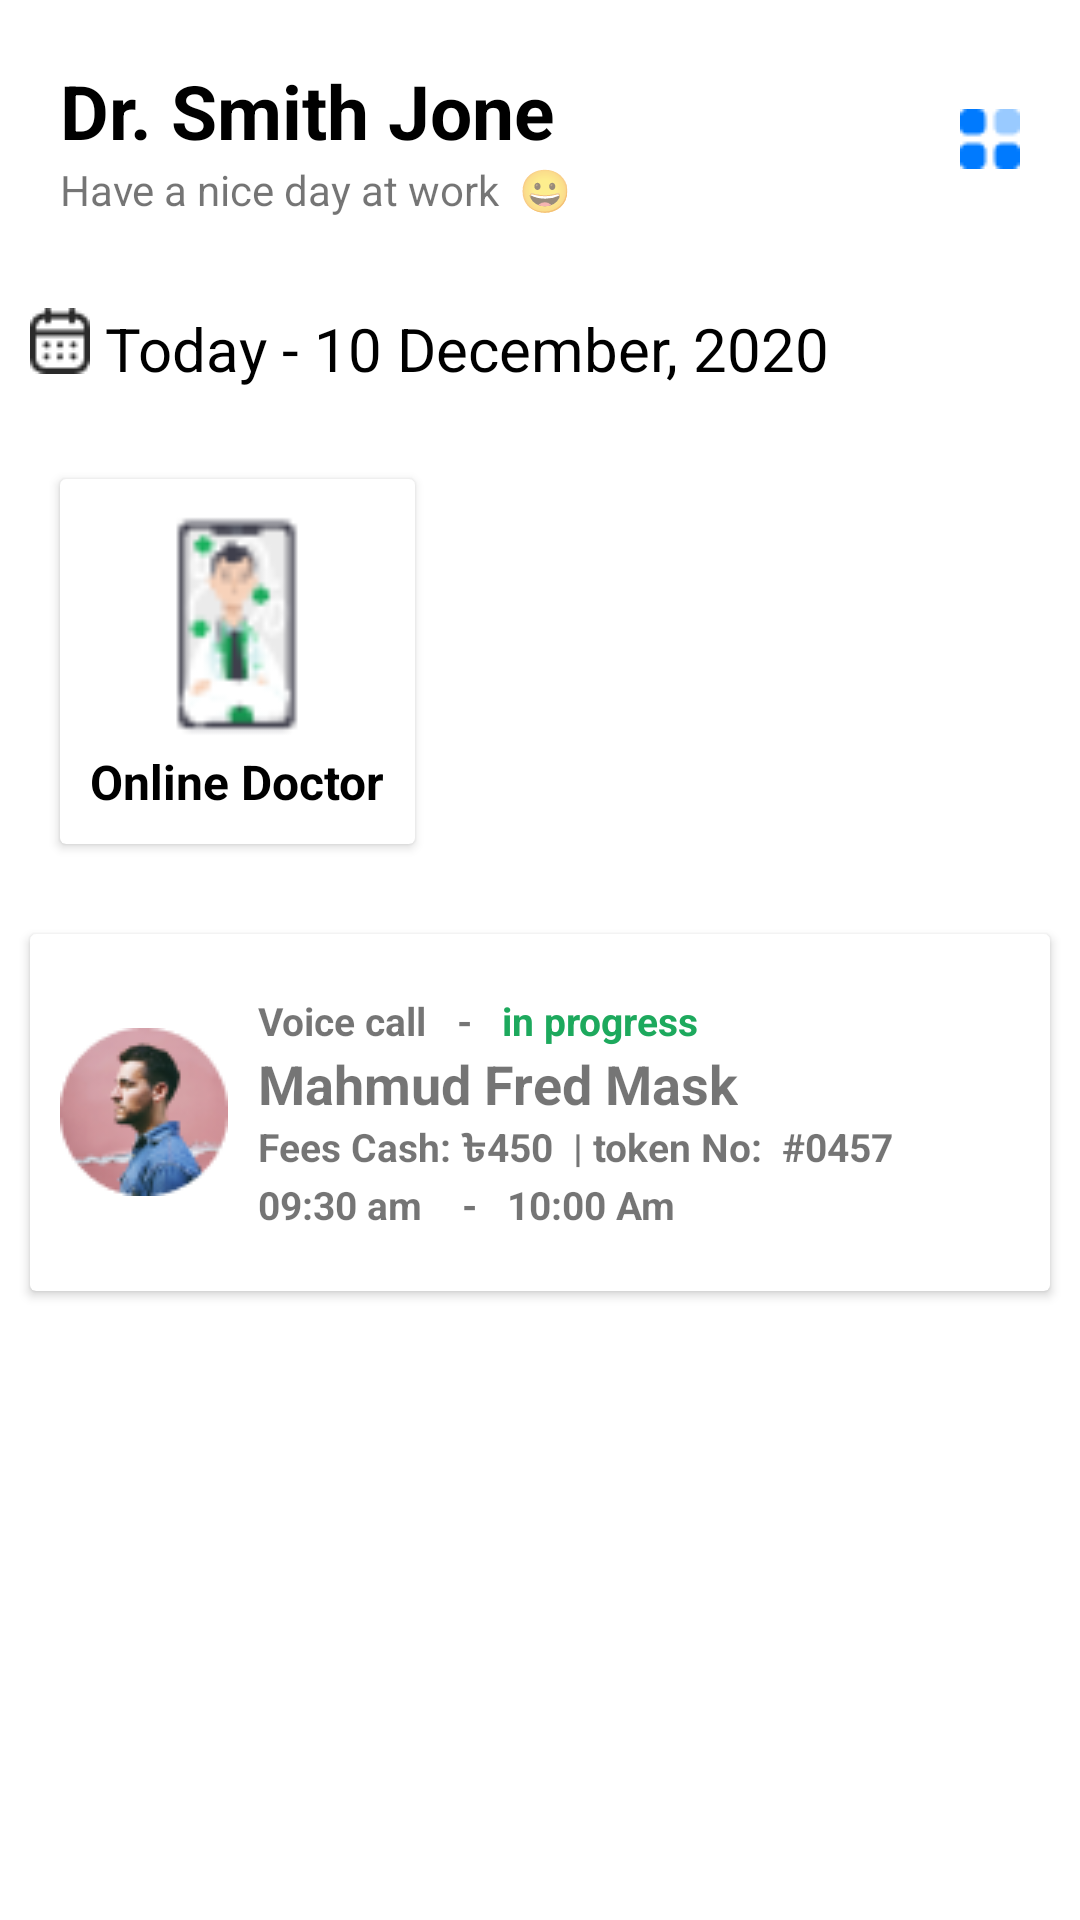

Icons on this 1080×1920 Android screen, each with the point to tap as [x,y]:
category: [990,139]
clendericon: [60,341]
phonepic: [236,624]
picprofile: [144,1112]
